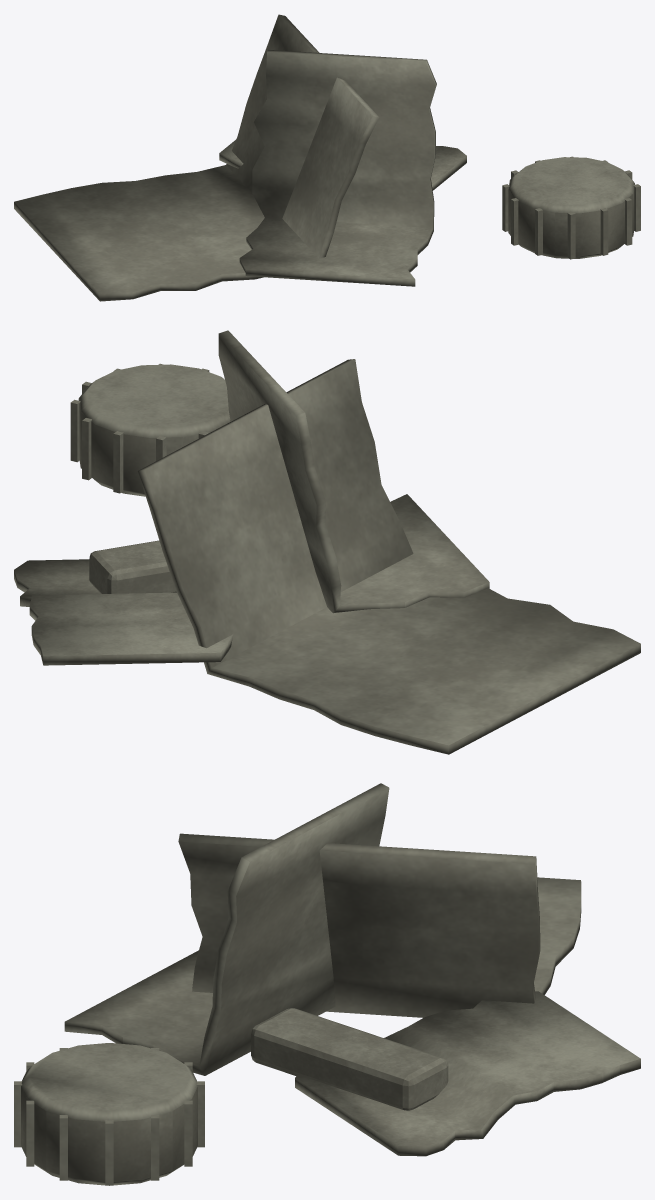
The model's file is prop_plastic_01.gltf.
The picture shows the model from 3 angles, top to bottom: view 1: azimuth 30°, elevation 25°; view 2: azimuth 150°, elevation 25°; view 3: azimuth 270°, elevation 25°; orthographic projection. The views are drawn at different scales.
Parts seen in each view (by area): view 1: prop_plastic_01_item_atlas_01; view 2: prop_plastic_01_item_atlas_01; view 3: prop_plastic_01_item_atlas_01.
Boxes of the visible parts, left/top/right/bottom form: prop_plastic_01_item_atlas_01: left=14, top=14, right=640, bottom=301; prop_plastic_01_item_atlas_01: left=14, top=330, right=640, bottom=754; prop_plastic_01_item_atlas_01: left=14, top=783, right=640, bottom=1185.
Size of the model in its own units: 0.1125 by 0.0373 by 0.0913.
Materials: 1 (1 with a texture image).
